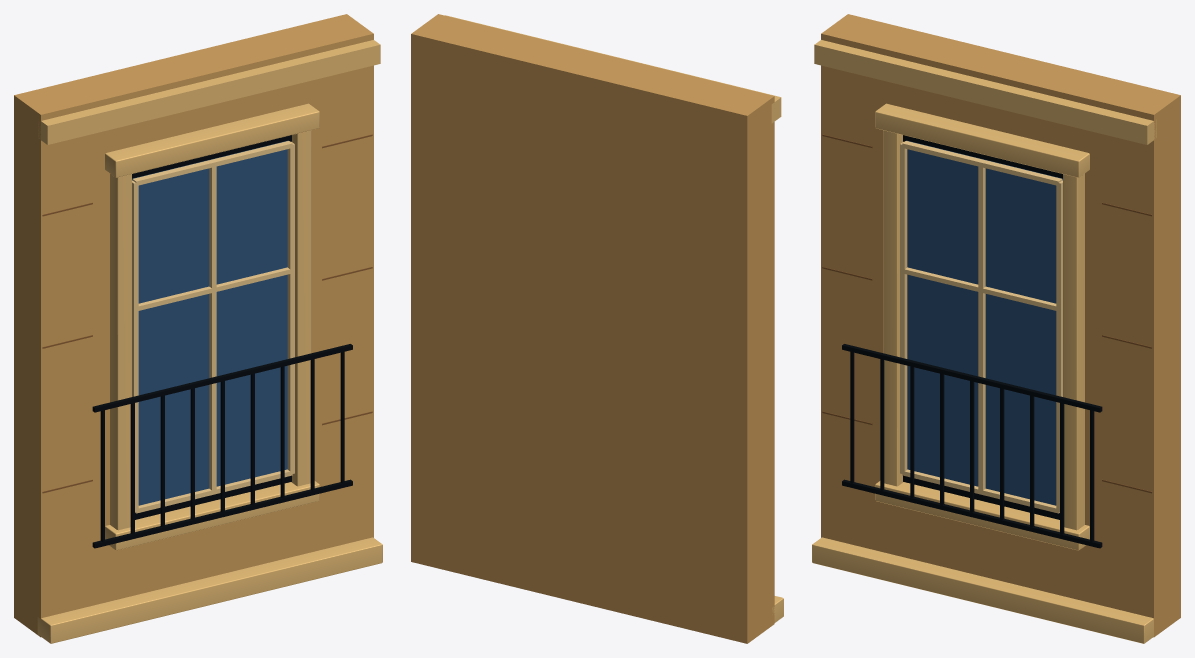
Rendered from etage-pierre-2m.glb.
3 views of the same model, side by side, from view 1: azimuth 30°, elevation 25°; view 2: azimuth 150°, elevation 25°; view 3: azimuth 330°, elevation 25° (orthographic).
Parts seen in each view (by area): view 1: etage-pierre-2m; view 2: etage-pierre-2m; view 3: etage-pierre-2m.
Boxes of the visible parts, <box> form: etage-pierre-2m: <box>14,14,382,643</box>; etage-pierre-2m: <box>411,14,783,643</box>; etage-pierre-2m: <box>812,14,1180,643</box>.
Bounding box in the file's own units: 2 × 3 × 0.4515.
Materials: 1 (1 with a texture image).
